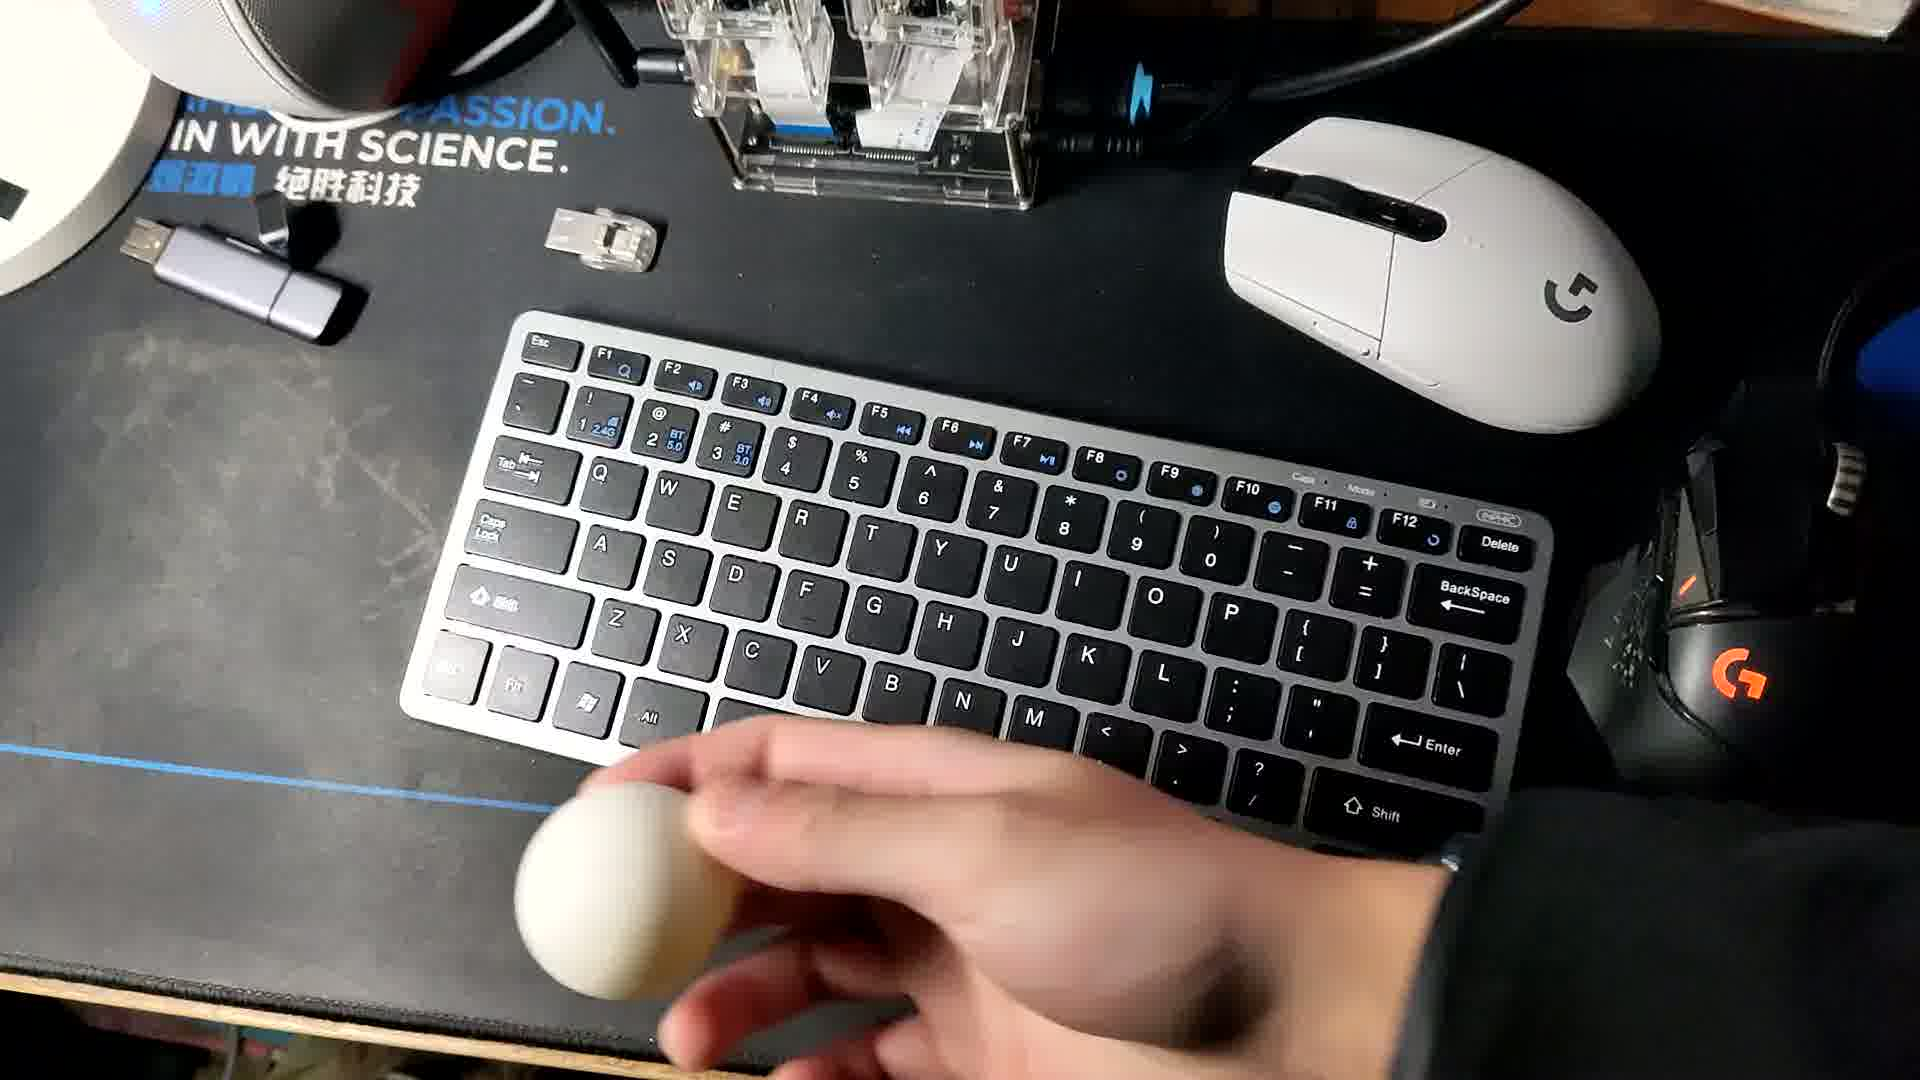Ball: (514, 779, 741, 1000)
